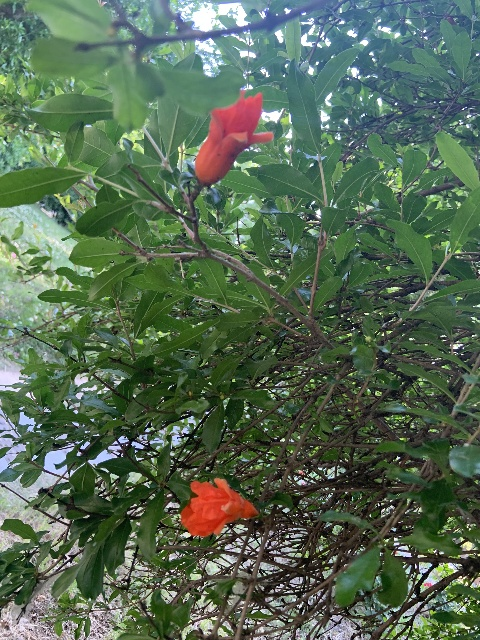flower: (195, 89, 273, 185), (181, 478, 258, 536)
